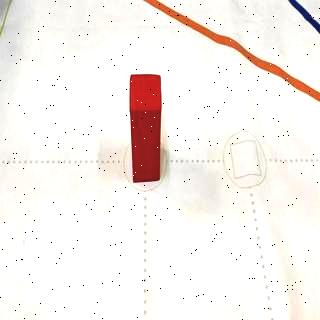redbox: (128, 72, 162, 184)
